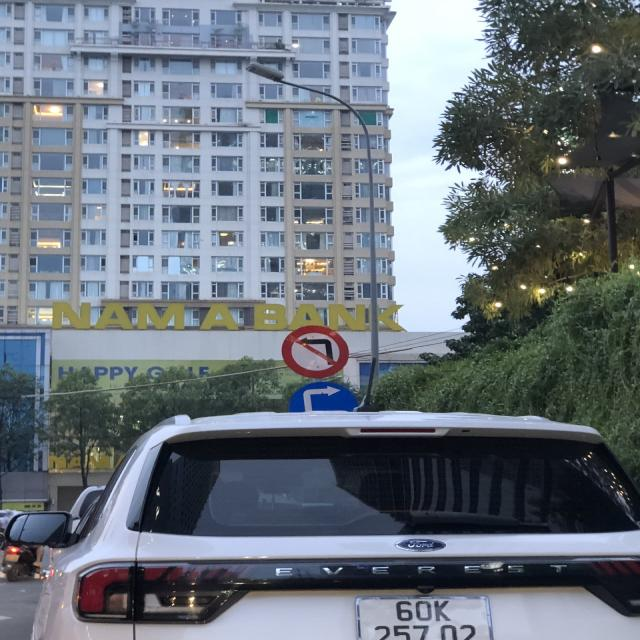Bien bao cam re trai: (269, 314, 362, 384)
